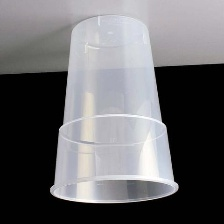glass: (43, 10, 184, 210)
